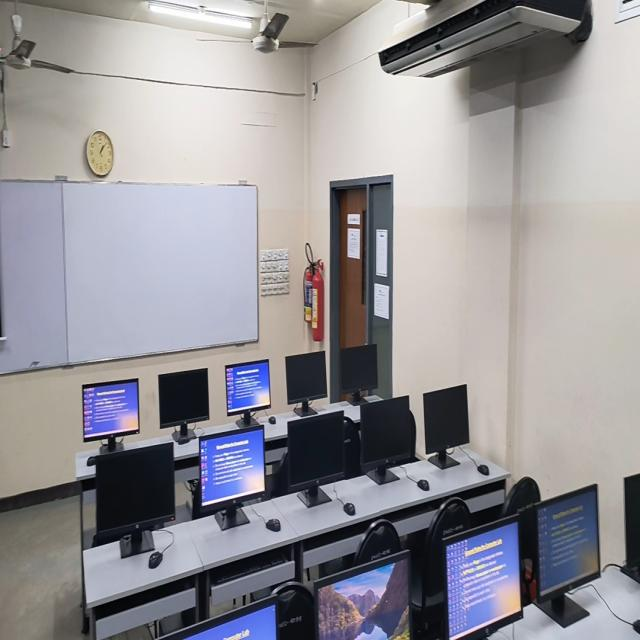Ac: (379, 0, 593, 77)
Chair: (409, 497, 471, 639), (353, 519, 402, 566), (276, 581, 315, 639), (502, 476, 541, 516), (344, 418, 360, 479)
Fire Extinguisher: (303, 243, 324, 341)
Light: (148, 0, 254, 28)
Monitor: (521, 484, 600, 627), (443, 520, 522, 639), (316, 553, 409, 639), (95, 441, 174, 535), (287, 411, 346, 507), (199, 424, 265, 509), (360, 396, 418, 484), (424, 385, 469, 469), (82, 379, 139, 441), (184, 606, 276, 639), (158, 369, 209, 428), (286, 351, 327, 417), (226, 360, 270, 415), (340, 344, 378, 393)
Mouse: (149, 551, 163, 568), (266, 519, 281, 532), (343, 503, 355, 516), (417, 479, 430, 491), (477, 464, 489, 475), (268, 416, 276, 423)
